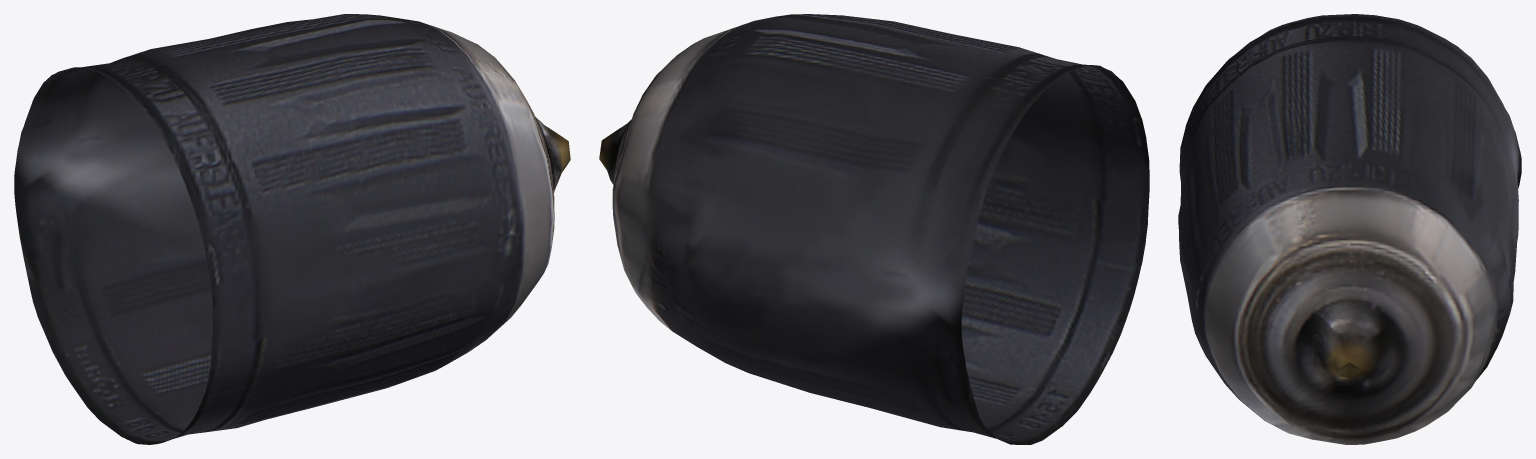
The model's file is chuck.obj.
3 renders of one model, left to right at view 1: azimuth 30°, elevation 25°; view 2: azimuth 150°, elevation 25°; view 3: azimuth 270°, elevation 25°, orthographic. The views are drawn at different scales.
Visible parts, largest first — view 1: chuck_drillphotogram.004; view 2: chuck_drillphotogram.004; view 3: chuck_drillphotogram.004.
Part boxes in pixels (x1=…): chuck_drillphotogram.004: x1=14, y1=14, x2=570, y2=444; chuck_drillphotogram.004: x1=599, y1=14, x2=1149, y2=444; chuck_drillphotogram.004: x1=1178, y1=14, x2=1521, y2=444.
Size of the model in its own units: 0.0753 by 0.055 by 0.0554.
1 material, 1 textured.
